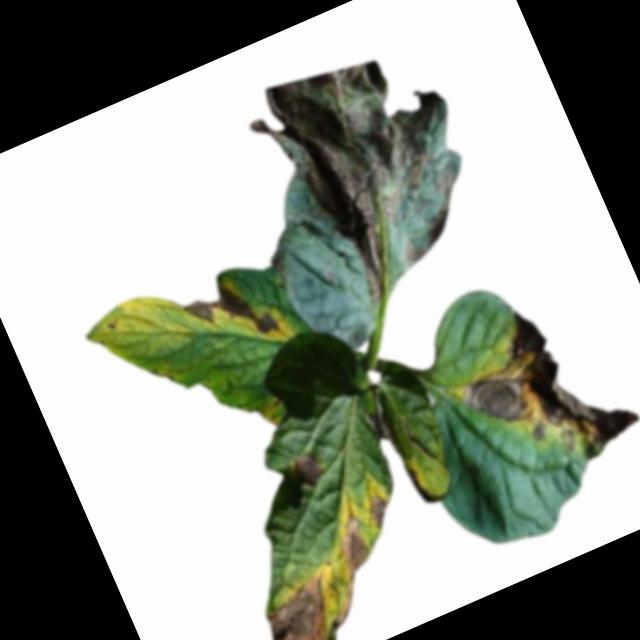Early_blight: (237, 24, 512, 325), (441, 281, 640, 495), (201, 510, 406, 640), (177, 262, 282, 363), (290, 450, 328, 491), (365, 495, 396, 531), (266, 251, 289, 280)
